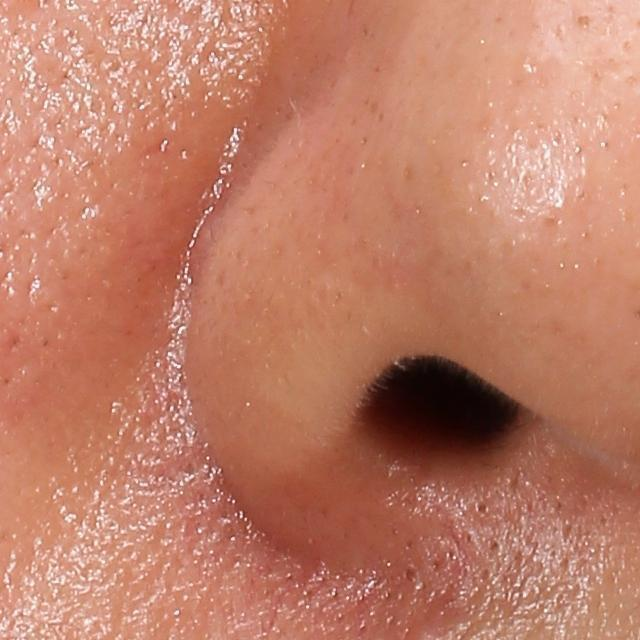comedo: (397, 559, 426, 591), (470, 494, 492, 520)
